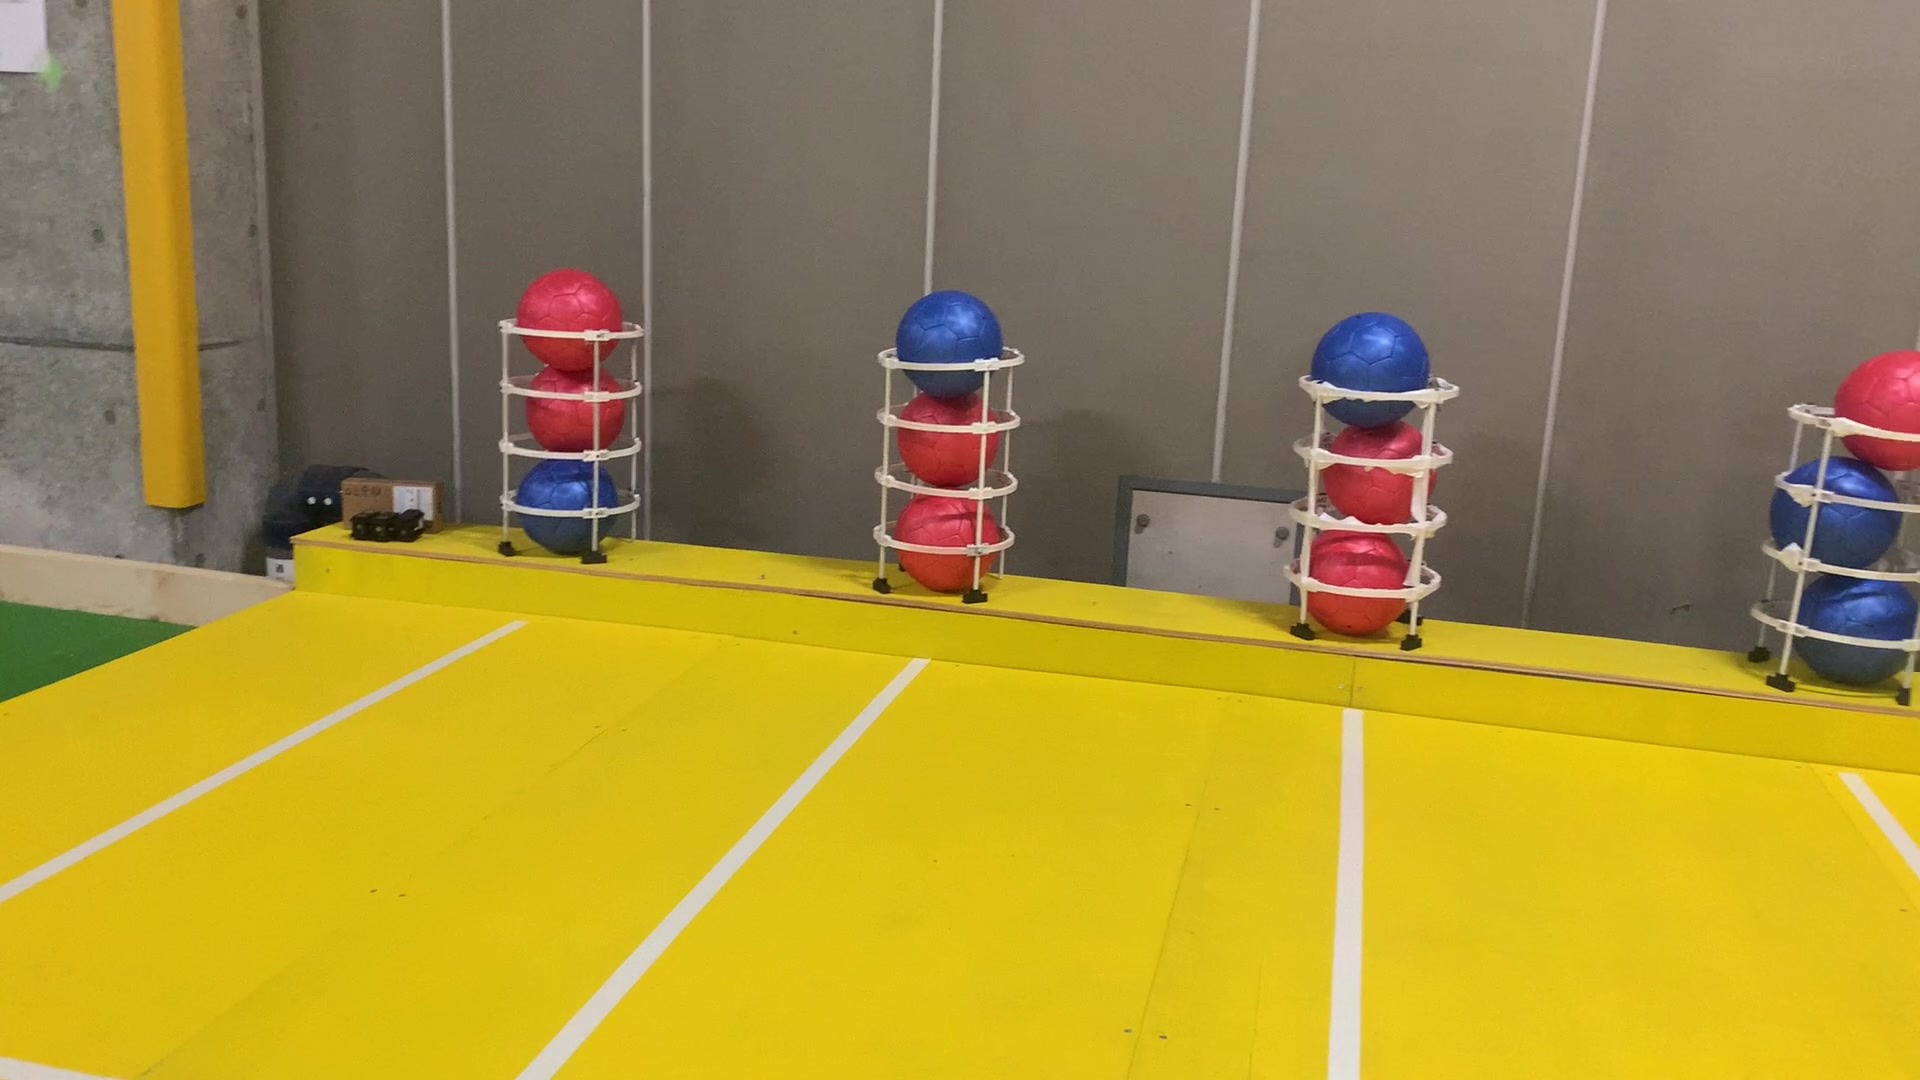blue: (1783, 555, 1920, 699), (1766, 451, 1899, 571), (1308, 310, 1436, 426), (897, 285, 1001, 396), (518, 459, 617, 549)
red: (891, 484, 1007, 599), (1328, 418, 1443, 526), (1295, 526, 1408, 634), (1833, 339, 1920, 479), (517, 266, 618, 371), (901, 385, 1001, 489), (527, 360, 630, 455)
